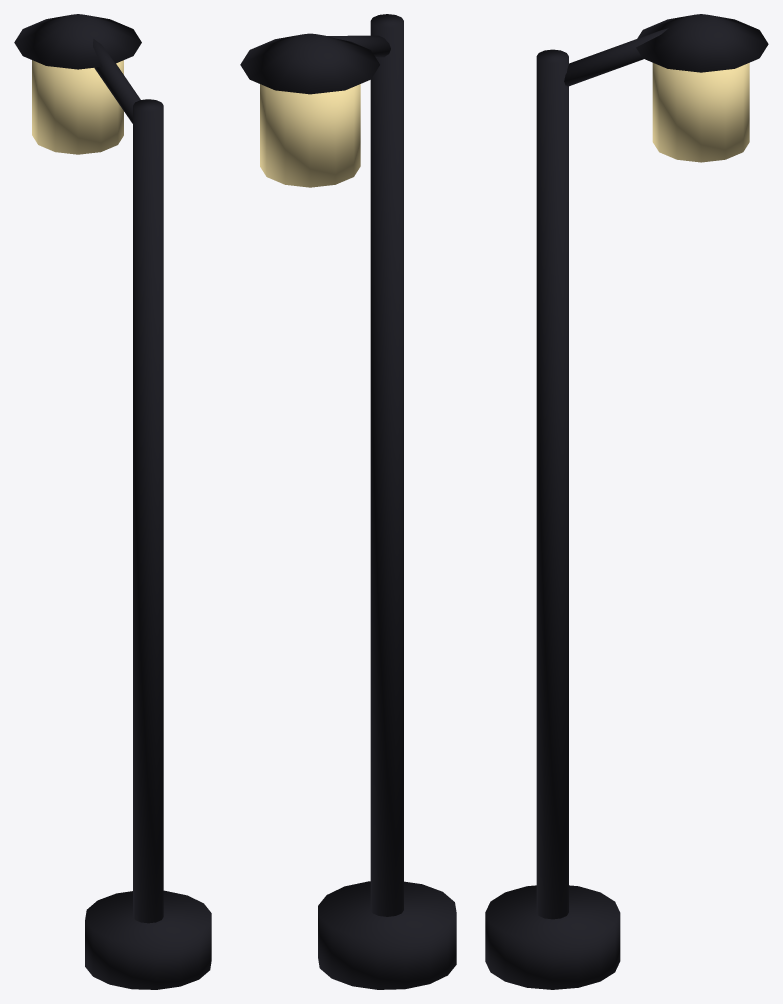
File: SM_StreetLamp.fbx
3 renders of one model, left to right at view 1: azimuth 30°, elevation 25°; view 2: azimuth 150°, elevation 25°; view 3: azimuth 270°, elevation 25°, orthographic. The views are drawn at different scales.
Visible parts, largest first — view 1: SM_StreetLamp; view 2: SM_StreetLamp; view 3: SM_StreetLamp.
Boxes of the visible parts, bbox=[...] form: SM_StreetLamp: bbox=[14, 14, 211, 989]; SM_StreetLamp: bbox=[240, 14, 456, 989]; SM_StreetLamp: bbox=[485, 14, 768, 989].
Size of what is drawn, in the model's own units: 0.5 by 3.85 by 1.05.
1 material, 1 textured.
